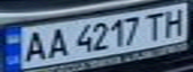1: (106, 16, 127, 47)
2: (90, 19, 112, 52)
4: (72, 20, 93, 55)
7: (121, 14, 145, 45)
A: (18, 28, 51, 63), (42, 25, 72, 60)
H: (157, 4, 193, 37)
T: (139, 9, 169, 40)
